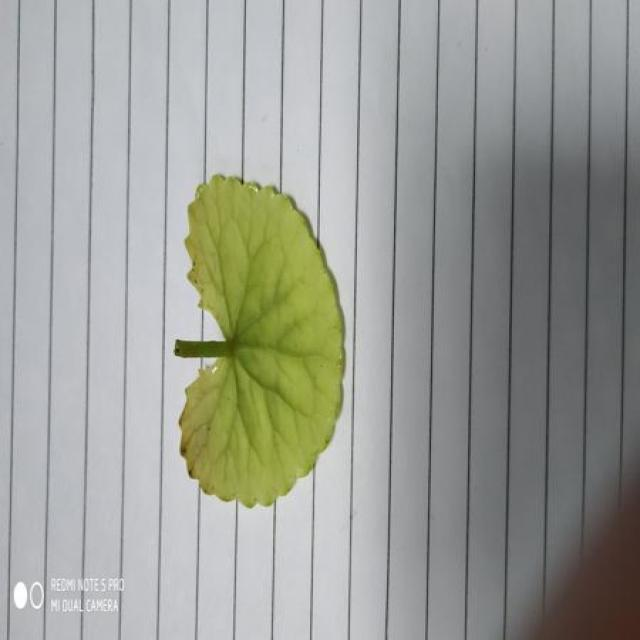bhrami: (175, 175, 343, 507)
